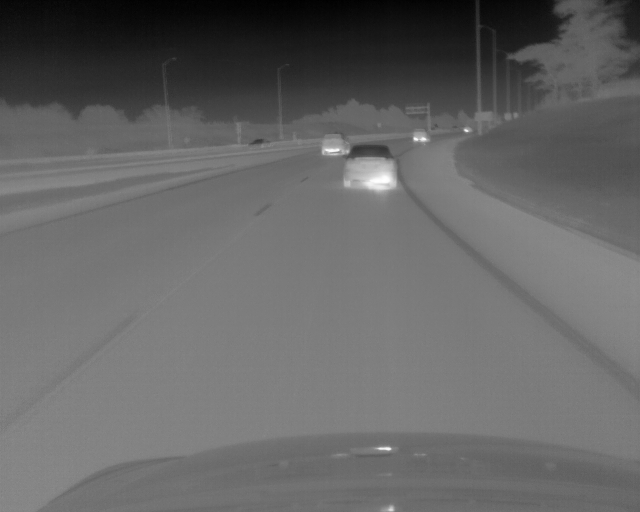car: (342, 144, 400, 191), (320, 131, 348, 156), (412, 127, 431, 143), (249, 137, 273, 148)
